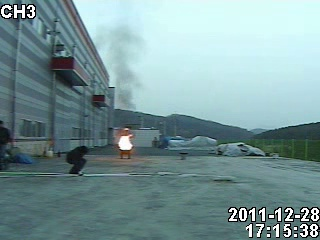fire: (117, 130, 134, 152)
